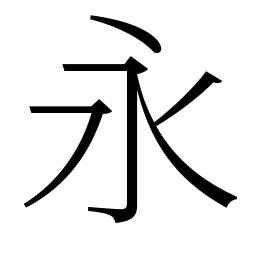D: (87, 12, 163, 54)
HSZ: (110, 55, 151, 86)
Hs: (61, 60, 98, 75)
Ne: (203, 182, 242, 211)
PNc: (144, 109, 174, 138)
PZe: (21, 183, 57, 209)
Ps: (191, 69, 223, 100)
SG: (86, 192, 143, 226)
Sm: (123, 138, 141, 179)
TPZ: (75, 97, 114, 145)
Ts: (27, 101, 52, 118)
